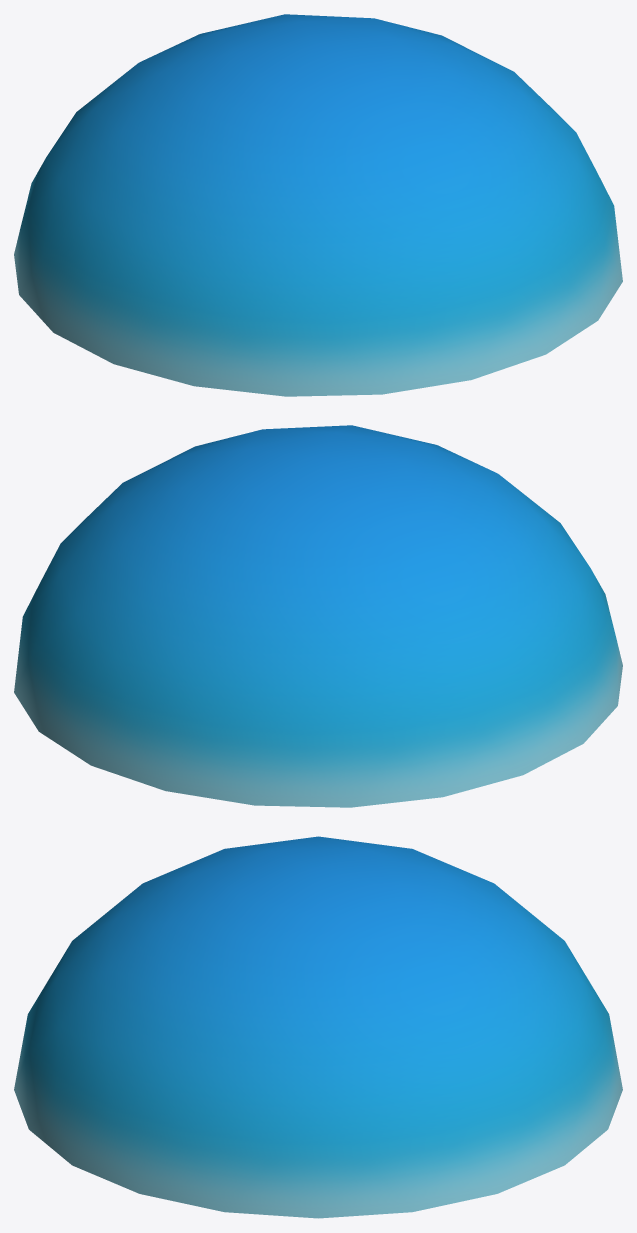
File: sky.glb
The picture shows the model from 3 angles, top to bottom: view 1: azimuth 30°, elevation 25°; view 2: azimuth 150°, elevation 25°; view 3: azimuth 270°, elevation 25°; orthographic projection.
Visible parts, largest first — view 1: Skydome; view 2: Skydome; view 3: Skydome.
Boxes of the visible parts, <box> form: Skydome: <box>14,14,622,396</box>; Skydome: <box>14,425,622,807</box>; Skydome: <box>14,836,622,1218</box>.
Size of the model in its own units: 147 by 58.43 by 147.
1 material, 1 textured.
